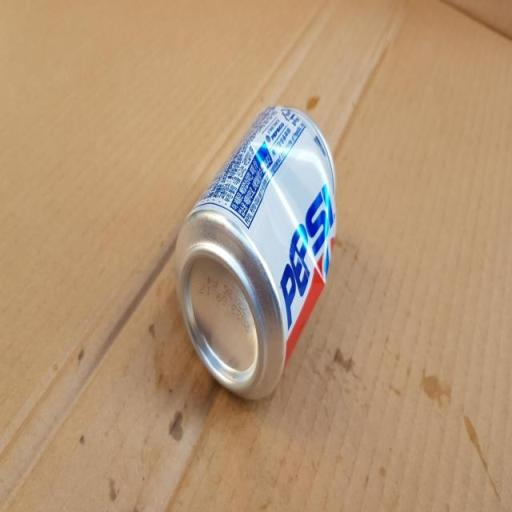metal: (170, 84, 364, 476)
